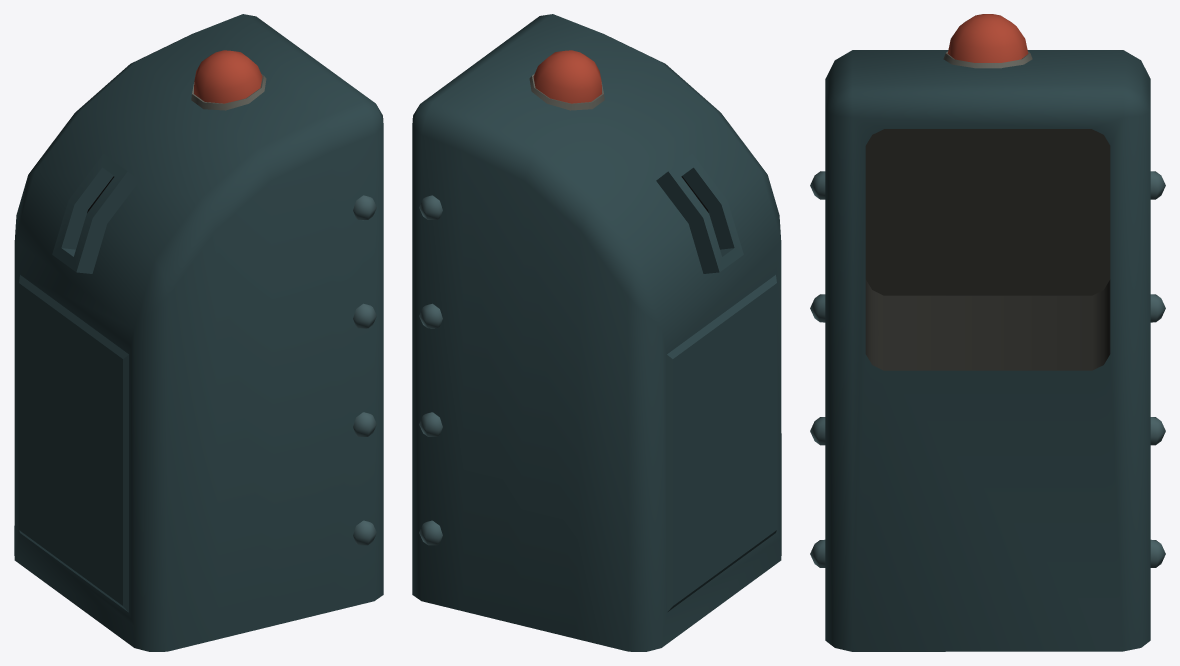
File: OT_102_103_104_105_casino_coin_slot.glb
3 renders of one model, left to right at view 1: azimuth 30°, elevation 25°; view 2: azimuth 150°, elevation 25°; view 3: azimuth 270°, elevation 25°, orthographic. The views are drawn at different scales.
Visible parts, largest first — view 1: slot_machine, light, screws; view 2: slot_machine, light, screws; view 3: slot_machine, light, screws.
Part boxes in pixels (x1,y1,x2,y2): slot_machine: (14, 14, 383, 651); light: (191, 50, 266, 110); screws: (353, 195, 376, 545); slot_machine: (412, 14, 781, 651); light: (529, 50, 604, 110); screws: (419, 195, 442, 545); slot_machine: (825, 50, 1150, 651); light: (943, 14, 1032, 68); screws: (810, 171, 1165, 567).
Bounding box in the file's own units: 0.7813 × 1.48 × 0.8201.
